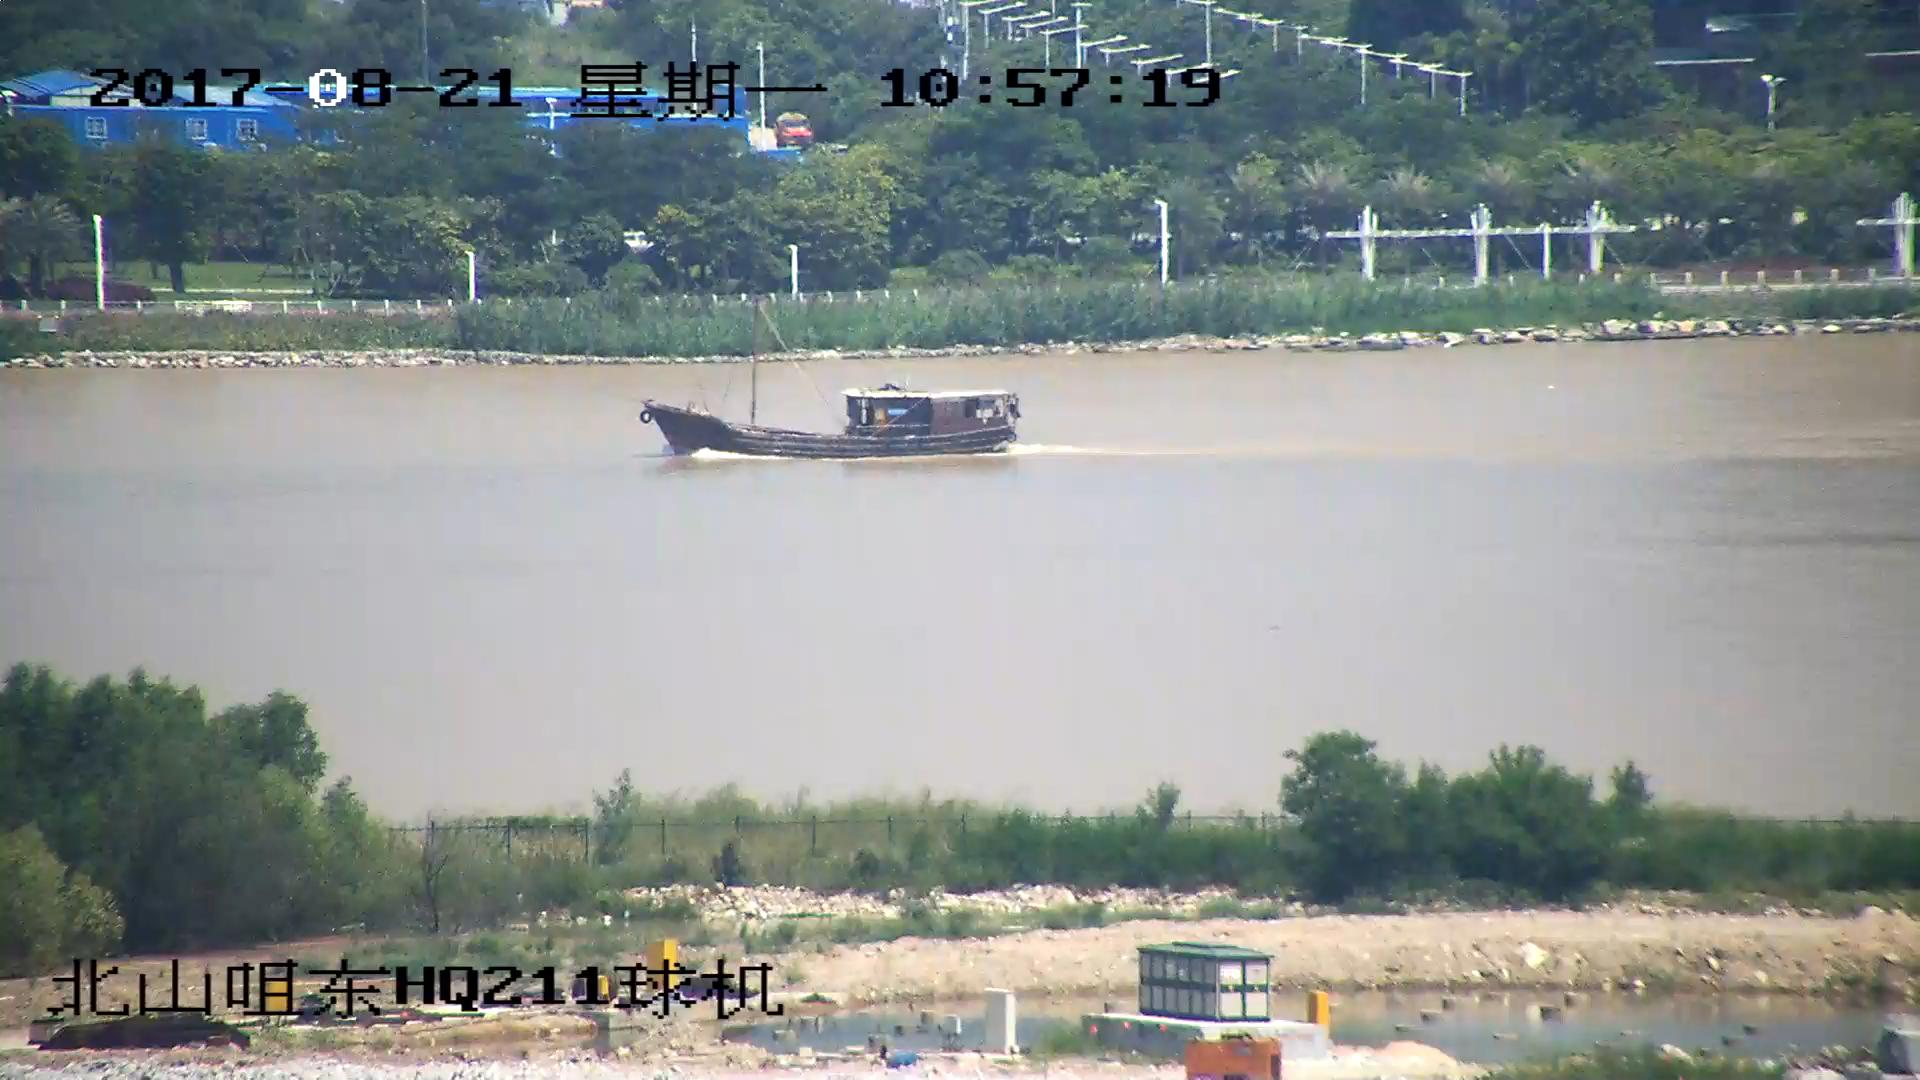fishing boat: (640, 303, 1025, 458)
